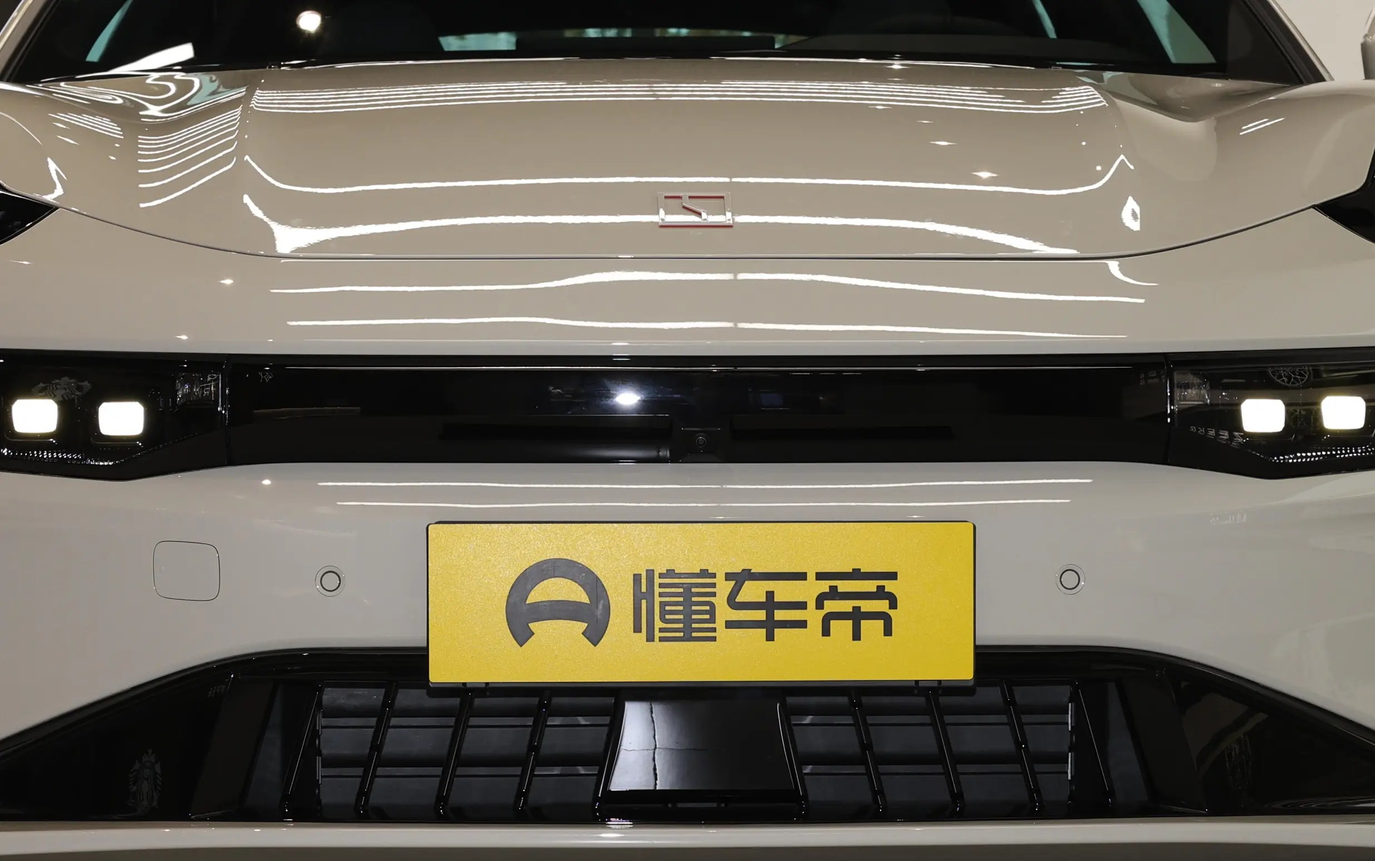ZEEKR: (658, 191, 732, 225)
